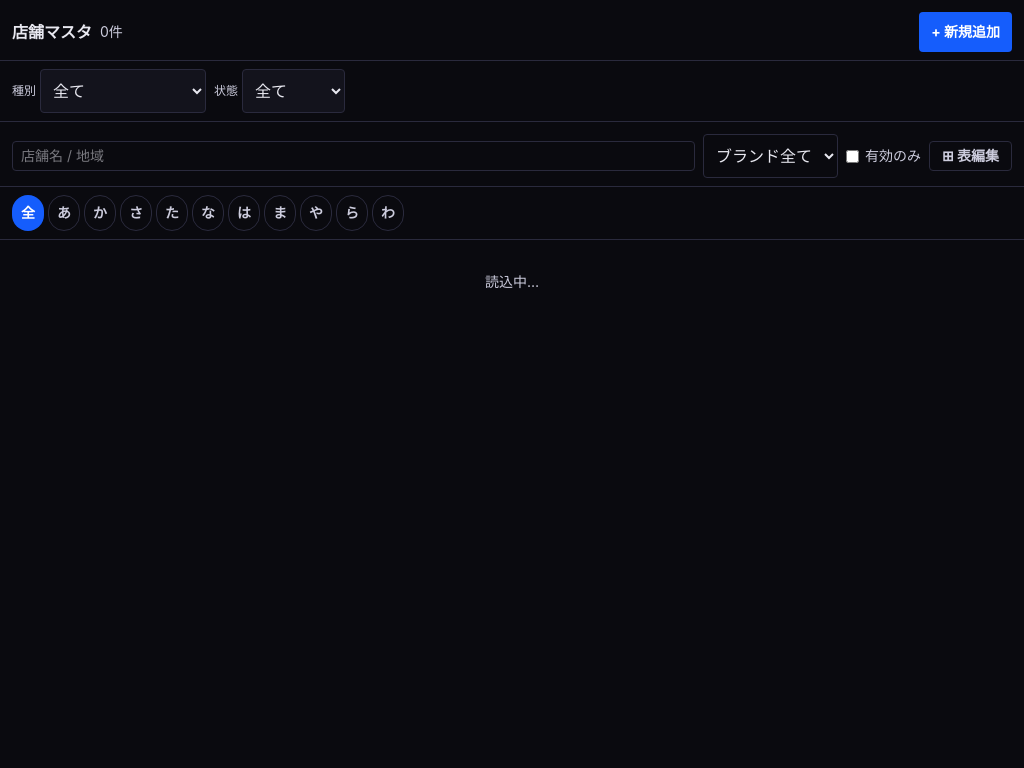
Test: SPEC-STORE-REGISTER-TYPE-DROPDOWN-AND-ORG-DEFAULT-01 (D-063) › AC1d: 種別 select renders the 5 normalized options
Click the button with test id "store-list-new-button" at (966, 32), box [919,12,1012,52]
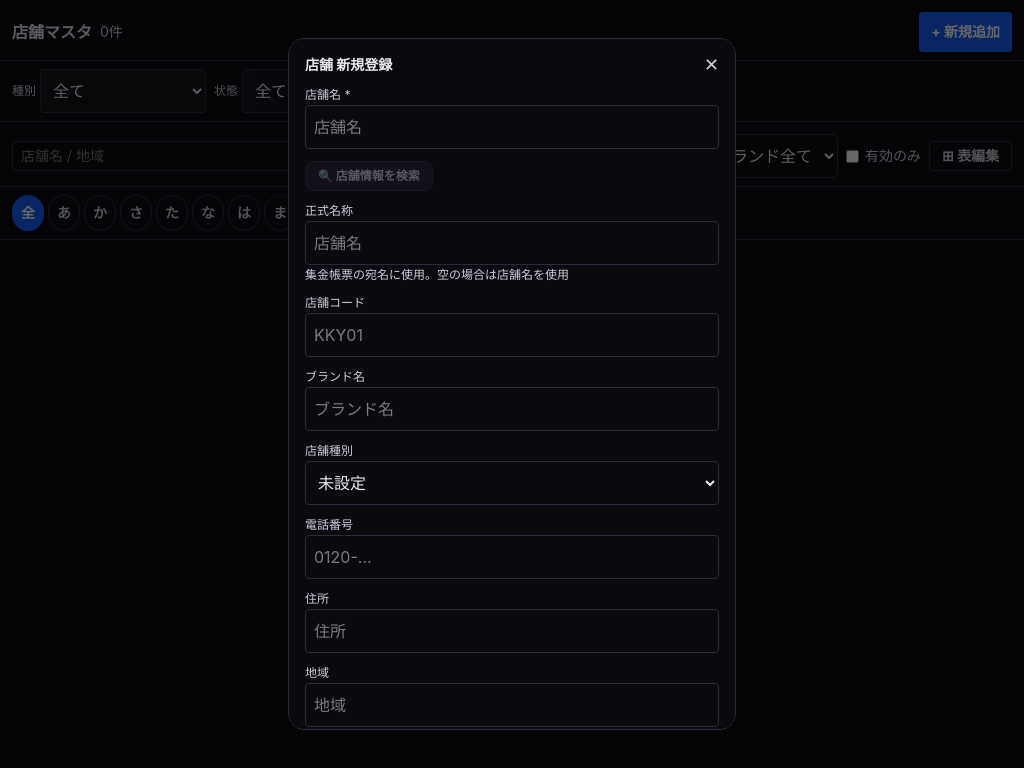
Expected: the dropdown with test id "store-edit-type" is shown, [305,461,719,505]
